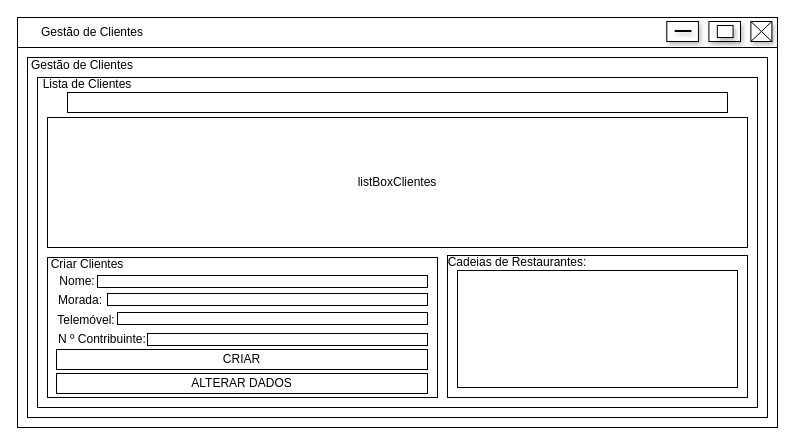
Some shapes in this 796 by 445 pixel diagram are drawn without their labels. Each missing label, with the centre of its shape:
listBoxCadeiaRestCliente: the point at 597,329
Remover Clientes: the point at 397,102
